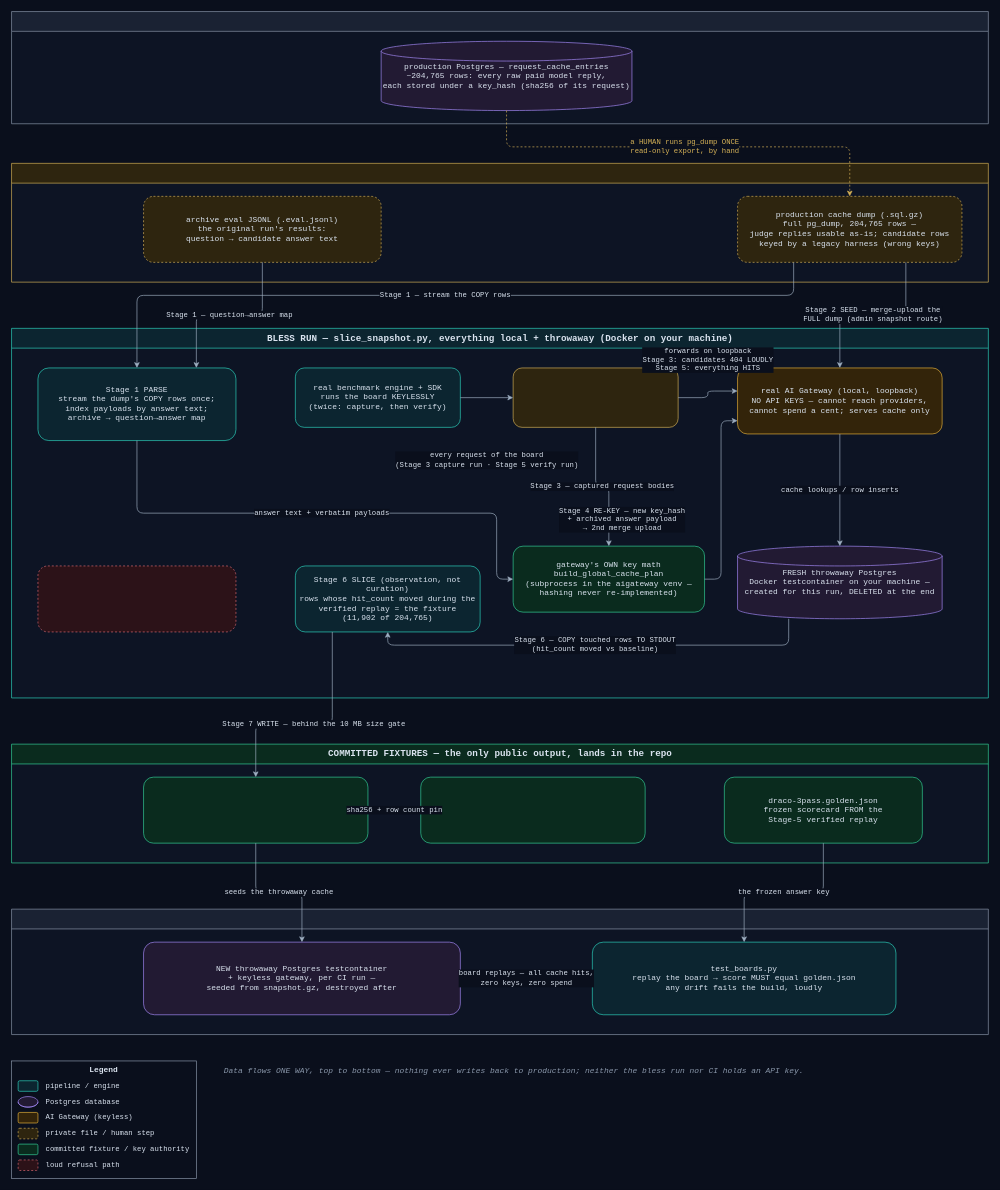
Some shapes in this 1000 by 1190 pixel diagram are drawn without their labels. Each missing label, with the box of its shape:
CI — every pull request, forever: (11, 908, 988, 1035)
draco-3pass.manifest.json sha256 of the .gz + row count + live cache revisions: (420, 776, 645, 843)
draco-3pass.snapshot.gz 1.12 MB, 11,902 rows gzip mtime=0, no local paths: (143, 776, 368, 843)
OWNER-HELD RECORDINGS — private files on the owner's disk, NEVER committed: (11, 163, 988, 282)
PRODUCTION — read-only source, NEVER written back: (11, 11, 988, 124)
recording proxy (loopback) records every rendered candidate request body: (512, 367, 678, 427)
Stage 5 cross-check: replay score ≠ saved report → BLESS REFUSED (aborts): (37, 565, 236, 632)
